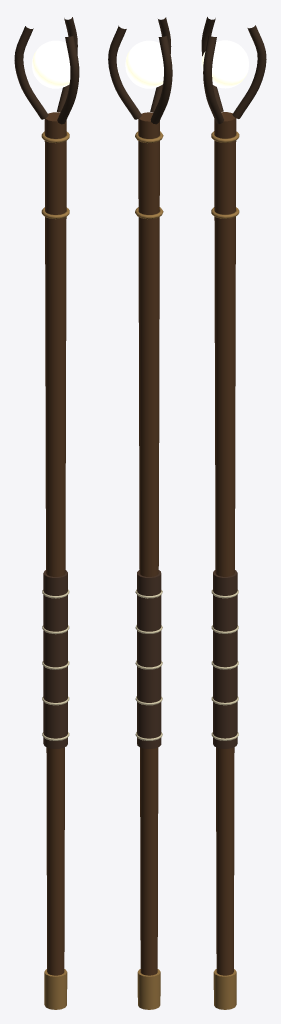
The model's file is staff-v1.glb.
3 renders of one model, left to right at view 1: azimuth 90°, elevation 25°; view 2: azimuth 210°, elevation 25°; view 3: azimuth 270°, elevation 25°, orthographic.
Parts seen in each view (by area): view 1: WeaponDrawn; view 2: WeaponDrawn; view 3: WeaponDrawn.
Part boxes in pixels (left/top/right/bottom): WeaponDrawn: left=14, top=17, right=79, bottom=1009; WeaponDrawn: left=108, top=17, right=172, bottom=1009; WeaponDrawn: left=201, top=17, right=266, bottom=1009.
Size of the model in its own units: 0.1387 by 2.06 by 0.1241.
